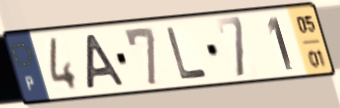1: (266, 15, 295, 72)
4: (49, 35, 80, 94)
7: (213, 14, 249, 81), (121, 26, 160, 87)
A: (84, 33, 128, 92)
L: (163, 24, 211, 82)
